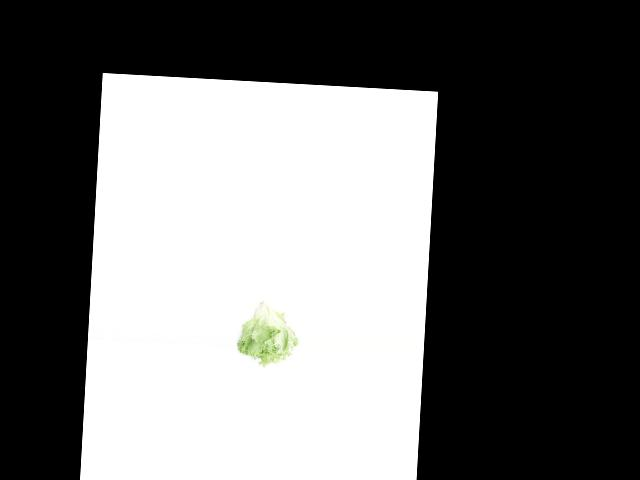lettuce: (234, 299, 302, 367)
